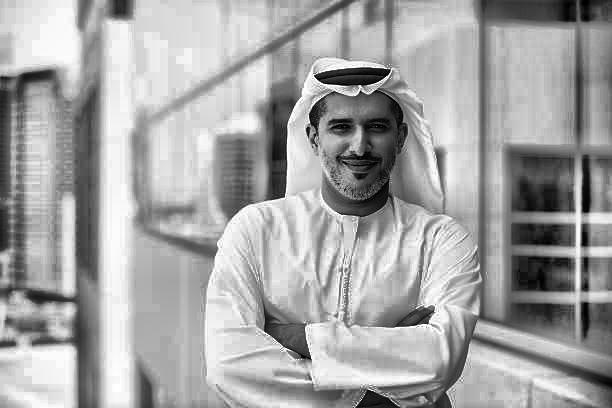happy: (292, 63, 447, 317)
